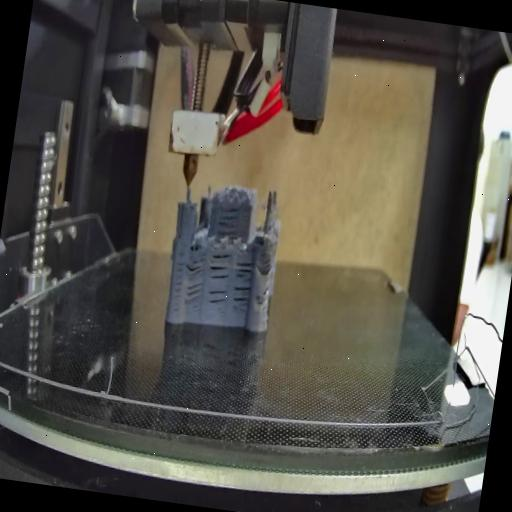cracks: (166, 228, 191, 316), (216, 201, 244, 242), (227, 284, 251, 318), (209, 252, 235, 283), (235, 256, 254, 284), (182, 279, 204, 303), (206, 286, 228, 310), (185, 248, 205, 274), (260, 252, 276, 278), (256, 286, 272, 308)
